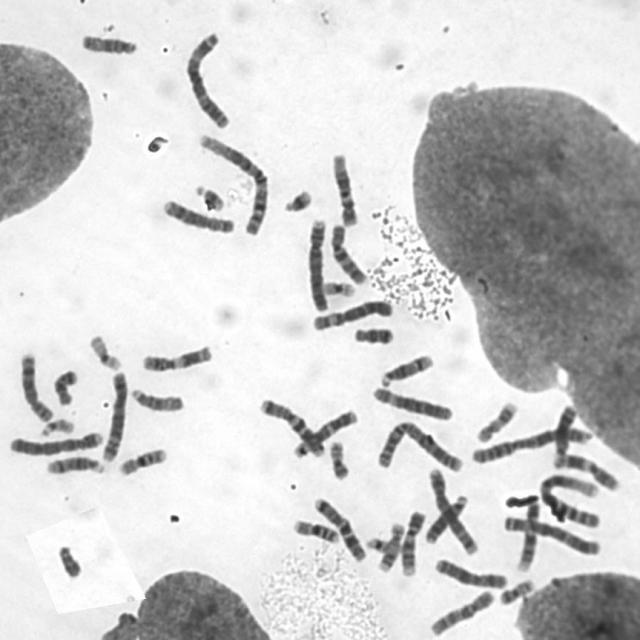A1: (195, 129, 272, 237), (534, 468, 604, 530)
A2: (467, 422, 592, 465), (374, 417, 465, 474)
A3: (180, 26, 233, 129), (499, 510, 604, 557)
B4: (6, 427, 105, 458), (304, 214, 332, 312)
B5: (425, 462, 481, 555), (97, 366, 130, 463)
C10: (426, 584, 498, 638), (326, 218, 369, 286)
C11: (549, 448, 622, 492), (138, 340, 215, 373)
C12: (289, 406, 360, 460), (329, 148, 361, 228)
C6: (368, 381, 455, 422), (308, 294, 396, 332)
C7: (256, 394, 328, 458), (309, 492, 369, 563)
C8: (159, 194, 238, 235), (15, 347, 56, 423)
C9: (512, 491, 543, 574), (398, 506, 427, 577)
D13: (422, 489, 469, 546), (550, 399, 579, 462)
D14: (376, 349, 435, 389), (42, 451, 108, 476)
D15: (127, 382, 185, 413), (78, 28, 141, 56)
E16: (115, 442, 170, 478), (289, 514, 341, 546)
E17: (472, 396, 520, 445), (375, 518, 407, 574)
E18: (50, 363, 81, 407), (350, 322, 396, 346)
F19: (85, 330, 125, 372), (320, 276, 358, 298)
F20: (496, 574, 537, 606), (326, 436, 352, 481)
G21: (190, 179, 228, 213), (280, 184, 315, 214)
G22: (37, 414, 77, 437), (362, 533, 392, 553)
X: (431, 554, 509, 590)
Y: (54, 539, 85, 580)
